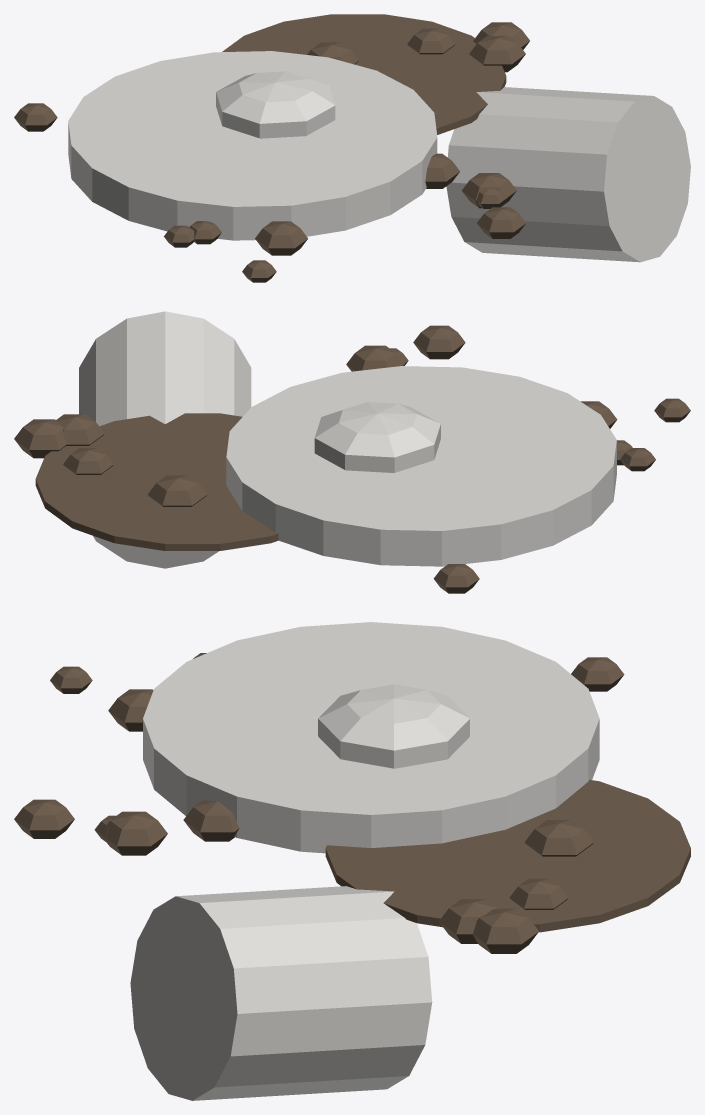
File: table-mess.glb
3 views of the same model, one above another, from view 1: azimuth 30°, elevation 25°; view 2: azimuth 150°, elevation 25°; view 3: azimuth 270°, elevation 25° (orthographic). The views are drawn at different scales.
Visible parts, largest first — view 1: DirtyPlate, TippedCup, Spill, Crumbs; view 2: DirtyPlate, Spill, TippedCup, Crumbs; view 3: DirtyPlate, TippedCup, Spill, Crumbs.
Part boxes in pixels (x1=…): DirtyPlate: x1=68, y1=51, x2=437, y2=240; TippedCup: x1=446, y1=87, x2=690, y2=262; Spill: x1=222, y1=14, x2=506, y2=134; Crumbs: x1=14, y1=22, x2=529, y2=282; DirtyPlate: x1=226, y1=366, x2=616, y2=566; Spill: x1=35, y1=413, x2=278, y2=550; TippedCup: x1=79, y1=311, x2=251, y2=568; Crumbs: x1=14, y1=325, x2=690, y2=593; DirtyPlate: x1=143, y1=622, x2=599, y2=853; TippedCup: x1=130, y1=886, x2=432, y2=1100; Spill: x1=325, y1=779, x2=690, y2=932; Crumbs: x1=14, y1=653, x2=624, y2=953.
Size of the model in its own units: 0.0337 by 0.0124 by 0.0296.
